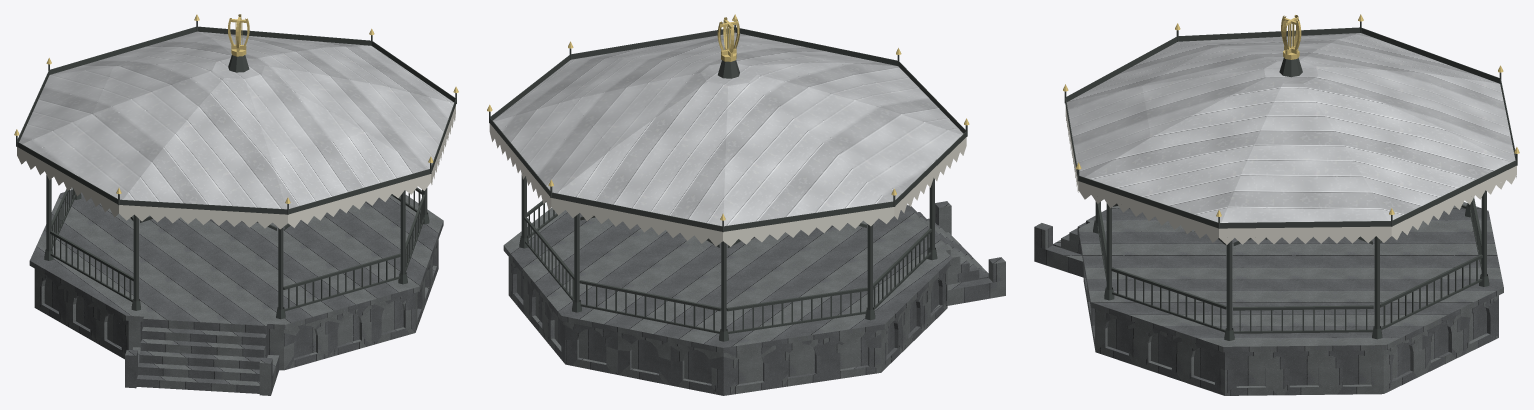
3 renders of one model, left to right at view 1: azimuth 30°, elevation 25°; view 2: azimuth 150°, elevation 25°; view 3: azimuth 270°, elevation 25°, orthographic. The views are drawn at different scales.
Parts seen in each view (by area): view 1: bldg_117235287_landmark; view 2: bldg_117235287_landmark; view 3: bldg_117235287_landmark.
Boxes of the visible parts, x1,y1,x2,y2 form: bldg_117235287_landmark: [14, 14, 458, 395]; bldg_117235287_landmark: [487, 14, 1005, 395]; bldg_117235287_landmark: [1034, 14, 1519, 395].
Bounding box in the file's own units: 13.46 × 9.16 × 13.93.
Materials: 5 (2 with a texture image).
